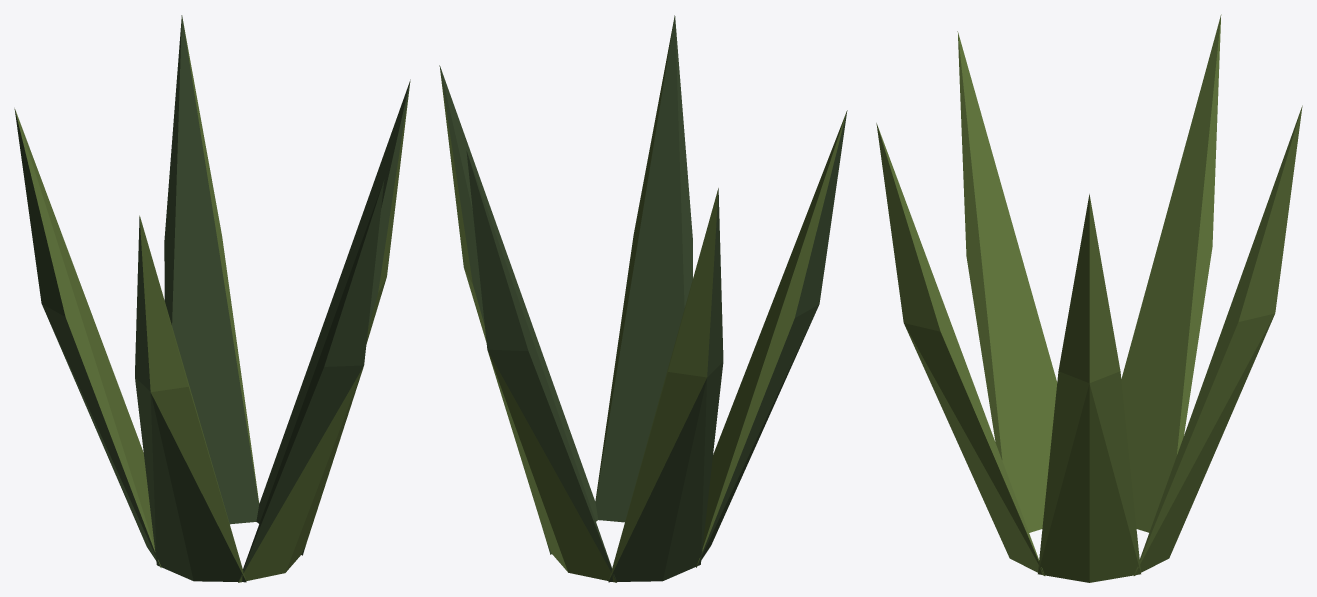
The model's file is TW_VEG_GRASS_TUFT_A_LOD0.glb.
The picture shows the model from 3 angles, left to right: view 1: azimuth 30°, elevation 25°; view 2: azimuth 150°, elevation 25°; view 3: azimuth 270°, elevation 25°; orthographic projection. The views are drawn at different scales.
Visible parts, largest first — view 1: TW_VEG_GRASS_TUFT_A_LOD0; view 2: TW_VEG_GRASS_TUFT_A_LOD0; view 3: TW_VEG_GRASS_TUFT_A_LOD0.
Part boxes in pixels (box(x1,y1,x2,y2)): TW_VEG_GRASS_TUFT_A_LOD0: box(14, 15, 410, 582); TW_VEG_GRASS_TUFT_A_LOD0: box(439, 15, 847, 582); TW_VEG_GRASS_TUFT_A_LOD0: box(876, 14, 1302, 582).
Bounding box in the file's own units: 0.3528 × 0.4532 × 0.3709.
1 material, 1 textured.
